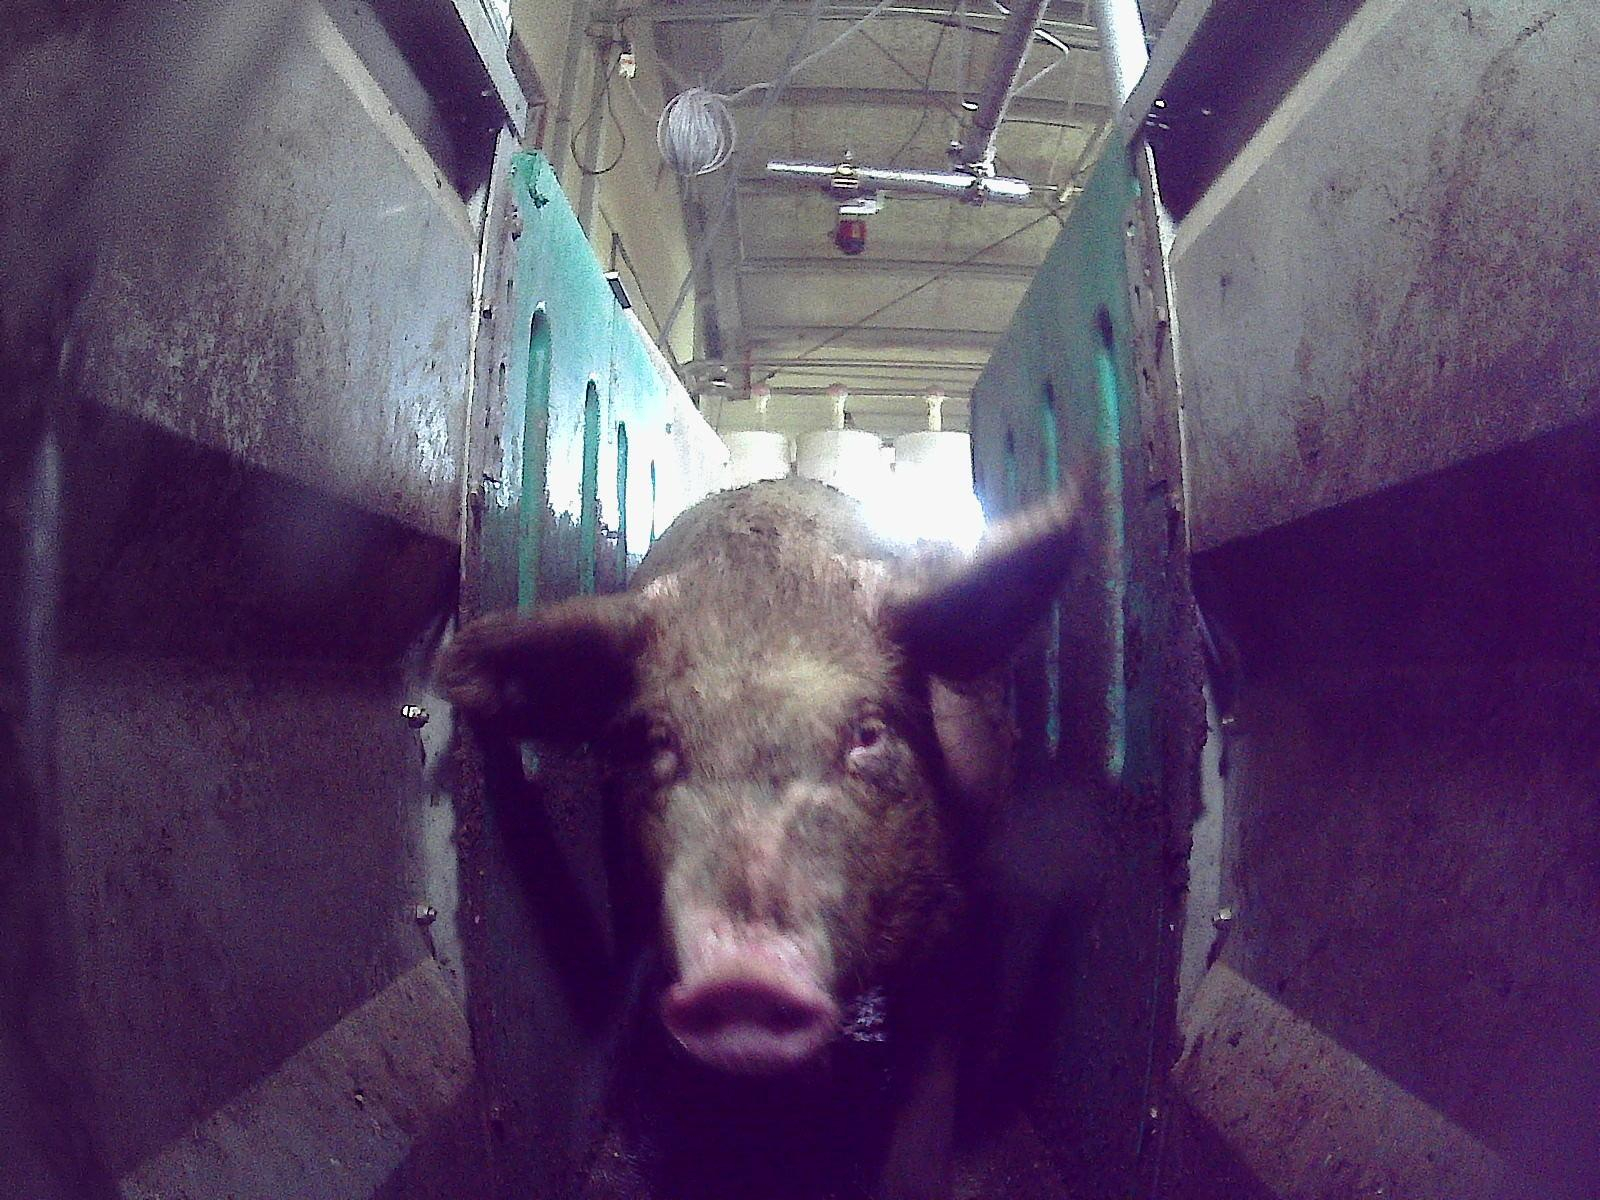Face: (618, 549, 969, 1077)
